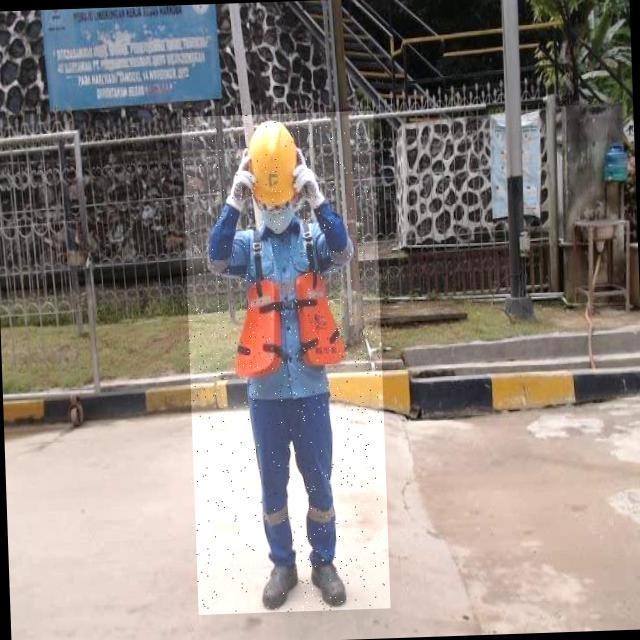Helmet: (249, 121, 298, 204)
Human: (181, 111, 390, 615)
Safety Boot: (260, 557, 301, 610), (308, 558, 349, 611)
Safety Vest: (230, 271, 347, 380)
